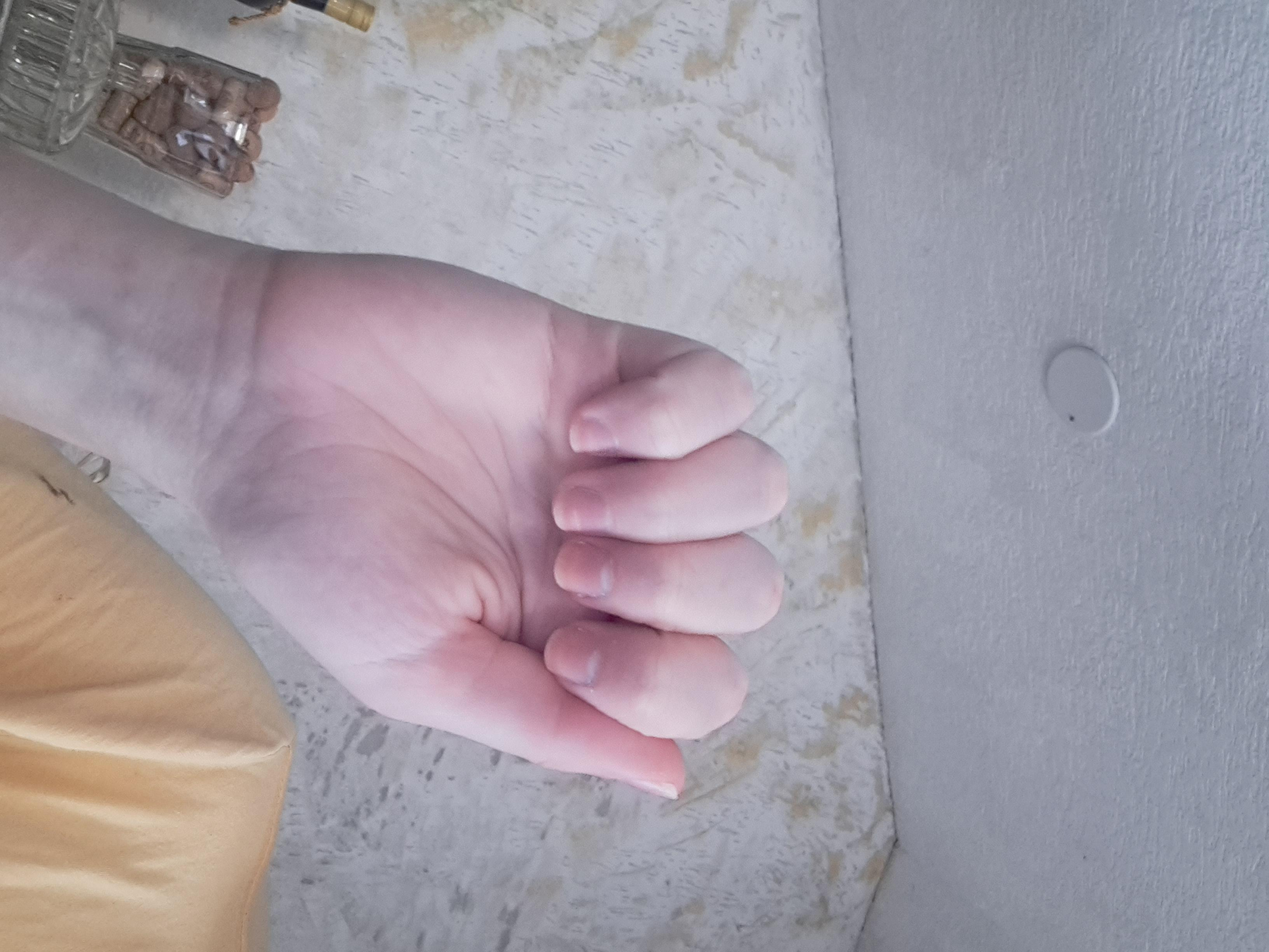A: (316, 341, 1073, 785)
